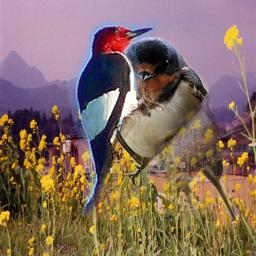Swallow: (96, 37, 238, 223)
Woodpecker: (59, 12, 164, 217)
